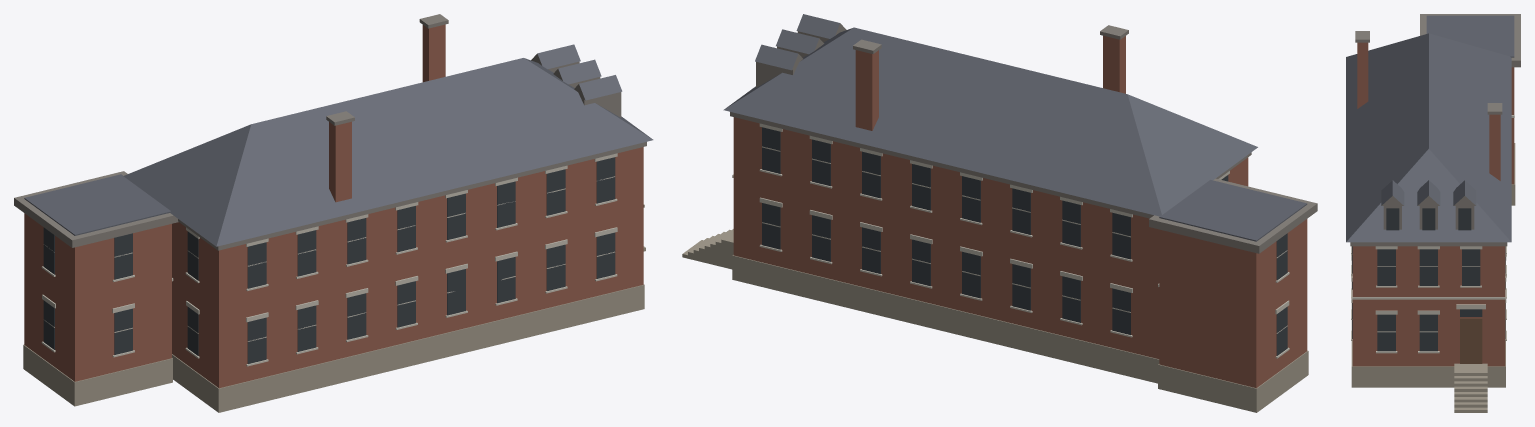
File: house_1832_calumet__draft_1904.glb
The picture shows the model from 3 angles, left to right: view 1: azimuth 30°, elevation 25°; view 2: azimuth 150°, elevation 25°; view 3: azimuth 270°, elevation 25°; orthographic projection. The views are drawn at different scales.
Parts seen in each view (by area): view 1: house_1832_calumet__draft_1904; view 2: house_1832_calumet__draft_1904; view 3: house_1832_calumet__draft_1904.
Boxes of the visible parts, bbox=[...] form: house_1832_calumet__draft_1904: bbox=[14, 14, 653, 412]; house_1832_calumet__draft_1904: bbox=[682, 14, 1317, 412]; house_1832_calumet__draft_1904: bbox=[1346, 14, 1520, 412].
Size of the model in its own units: 32.15 by 13.48 by 9.45.
